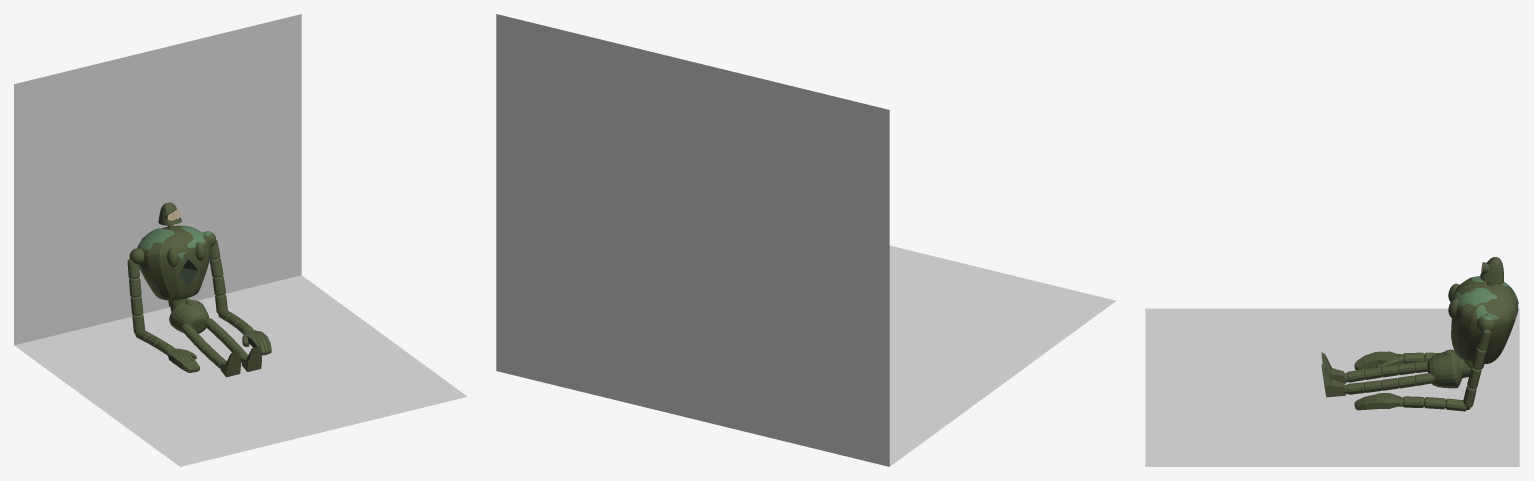
The model's file is 机器人3（坐姿）.fbx.
The picture shows the model from 3 angles, left to right: view 1: azimuth 30°, elevation 25°; view 2: azimuth 150°, elevation 25°; view 3: azimuth 270°, elevation 25°; orthographic projection. The views are drawn at different scales.
Visible parts, largest first — view 1: 平面, 立方体.001, 柱体.010, 柱体.004, 柱体.009, 柱体.001; view 2: 平面; view 3: 平面, 立方体.001, 柱体.010, 柱体.004, 柱体.001, 柱体.009, 立方体.006, Cube.
Part boxes in pixels (x1,y1,x2,y2): 平面: [14, 14, 467, 466]; 立方体.001: [139, 225, 210, 300]; 柱体.010: [181, 318, 261, 377]; 柱体.004: [135, 310, 271, 372]; 柱体.009: [127, 239, 227, 333]; 柱体.001: [169, 300, 208, 333]; 平面: [496, 14, 1116, 466]; 平面: [1145, 308, 1519, 466]; 立方体.001: [1451, 278, 1518, 364]; 柱体.010: [1321, 352, 1435, 397]; 柱体.004: [1354, 351, 1466, 411]; 柱体.001: [1427, 349, 1470, 388]; 柱体.009: [1463, 329, 1491, 407]; 立方体.006: [1454, 287, 1497, 307]; Cube: [1480, 257, 1503, 284].
Size of the model in its own units: 781 by 689 by 781.
